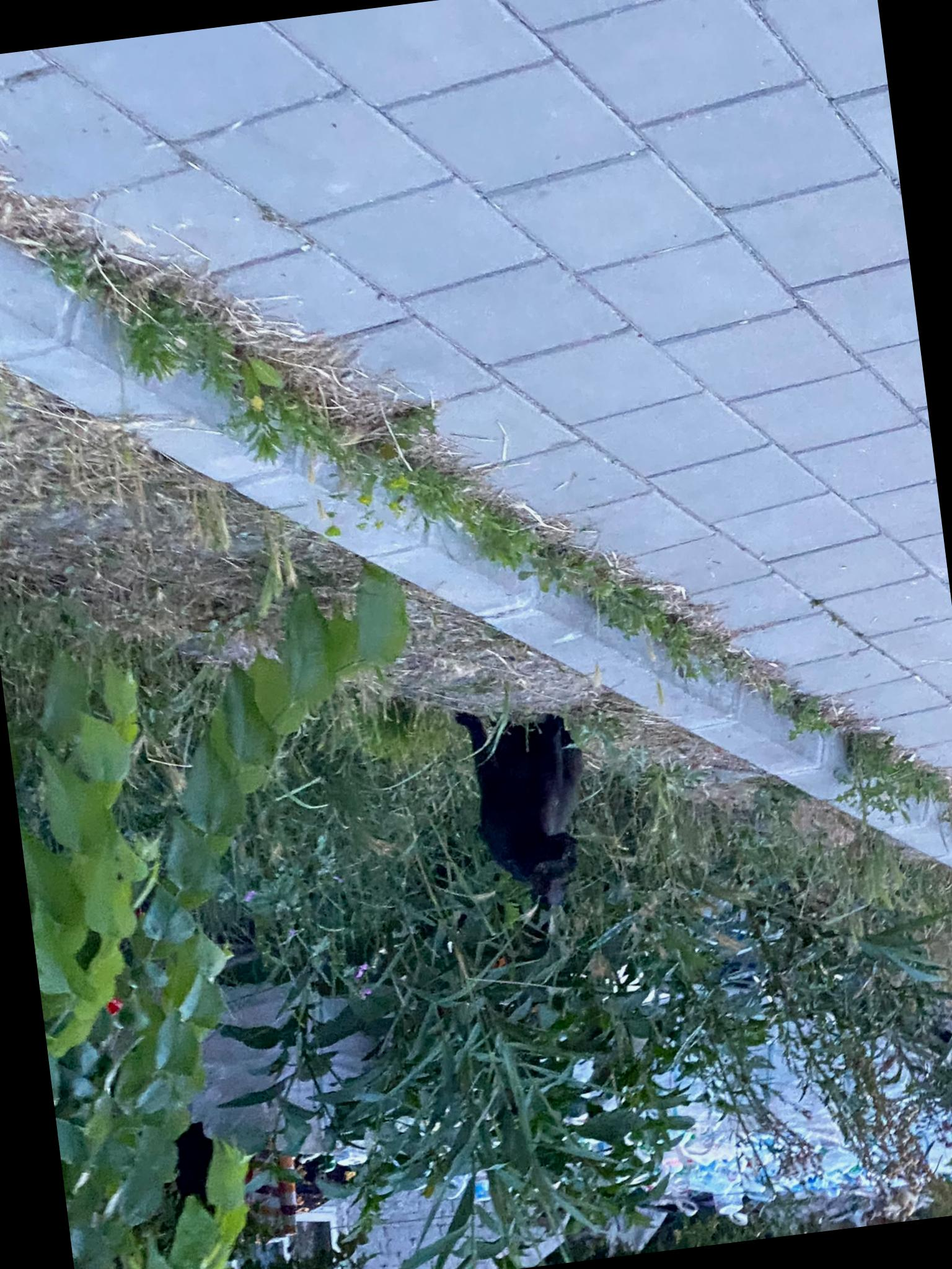macka: (452, 697, 602, 909)
